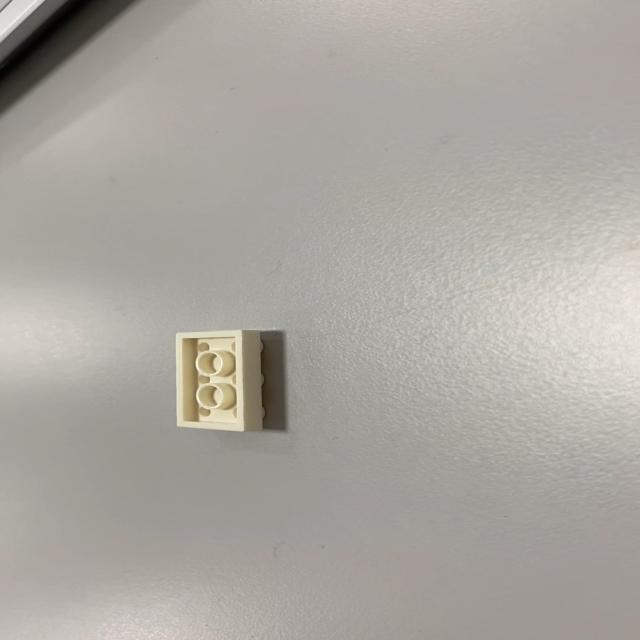C3x2x0: (172, 329, 264, 432)
